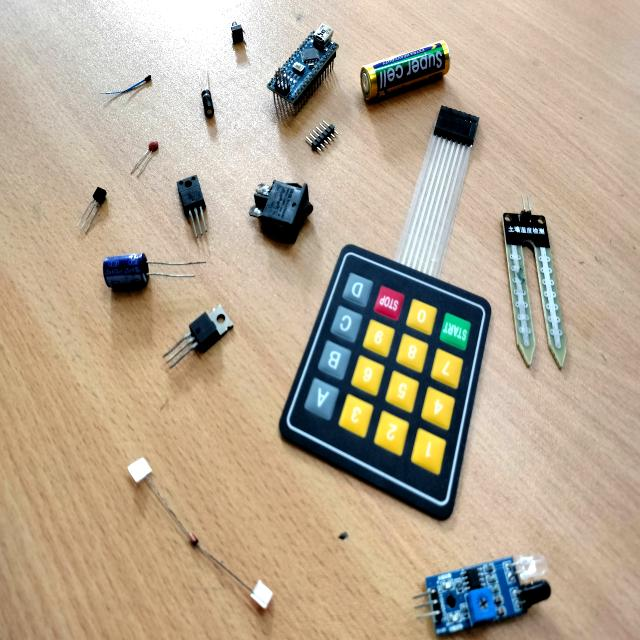capacitor: (103, 254, 149, 298), (135, 141, 159, 173), (201, 90, 216, 127)
